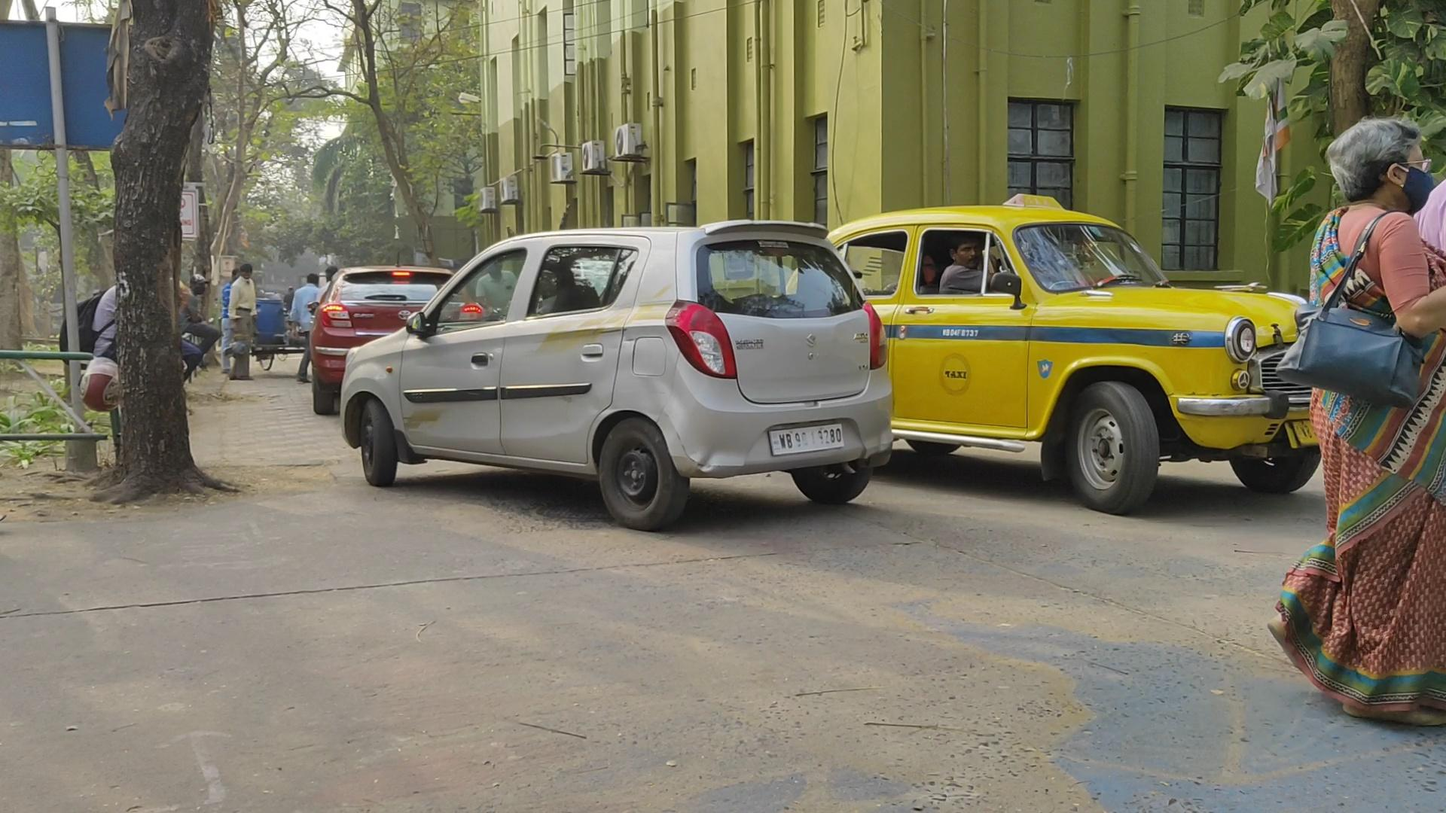car: (728, 194, 1329, 514), (340, 218, 894, 531), (310, 266, 487, 419)
